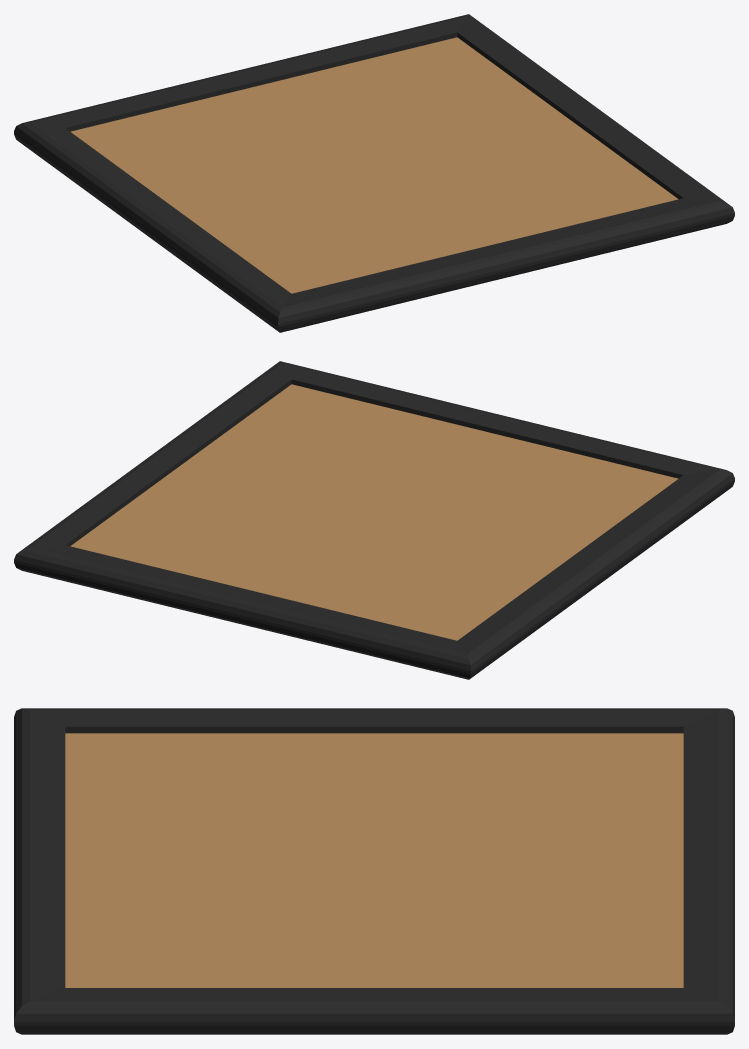
The model's file is platform.fbx.
3 renders of one model, top to bottom at view 1: azimuth 30°, elevation 25°; view 2: azimuth 150°, elevation 25°; view 3: azimuth 270°, elevation 25°, orthographic. The views are drawn at different scales.
Parts seen in each view (by area): view 1: Platform; view 2: Platform; view 3: Platform.
Part boxes in pixels (bbox=[...]): Platform: bbox=[14, 14, 734, 332]; Platform: bbox=[14, 361, 734, 679]; Platform: bbox=[14, 708, 734, 1034].
Size of the model in its own units: 3.35 by 0.1617 by 3.35.
